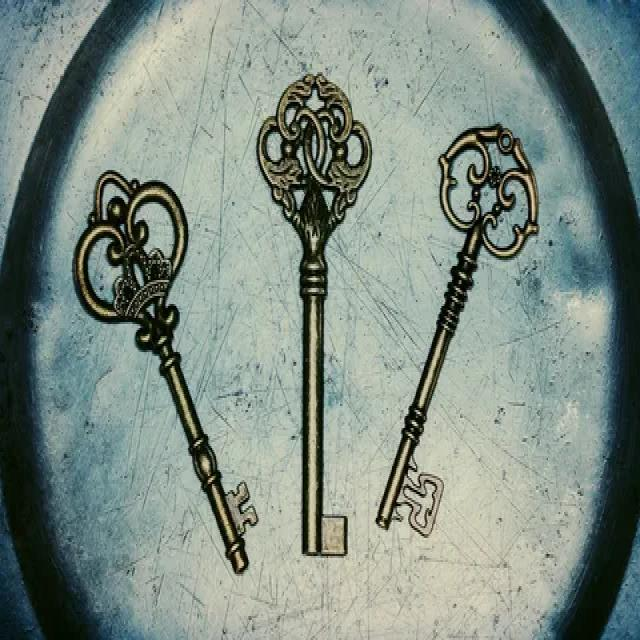key: (69, 134, 263, 594), (379, 124, 551, 572)
